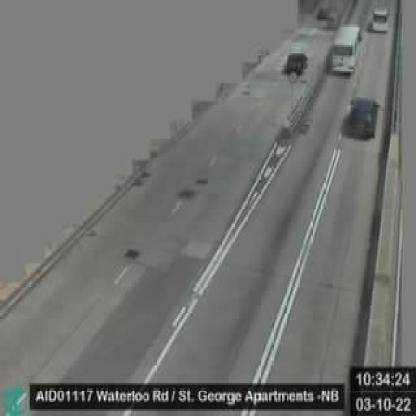Bus: (330, 22, 360, 73)
Car: (346, 99, 378, 137), (282, 50, 308, 75), (370, 5, 388, 30)
